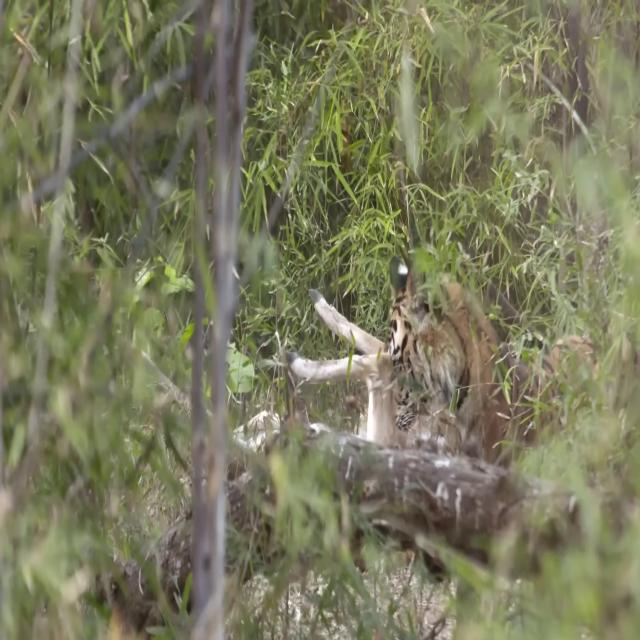tiger: (387, 249, 600, 442)
